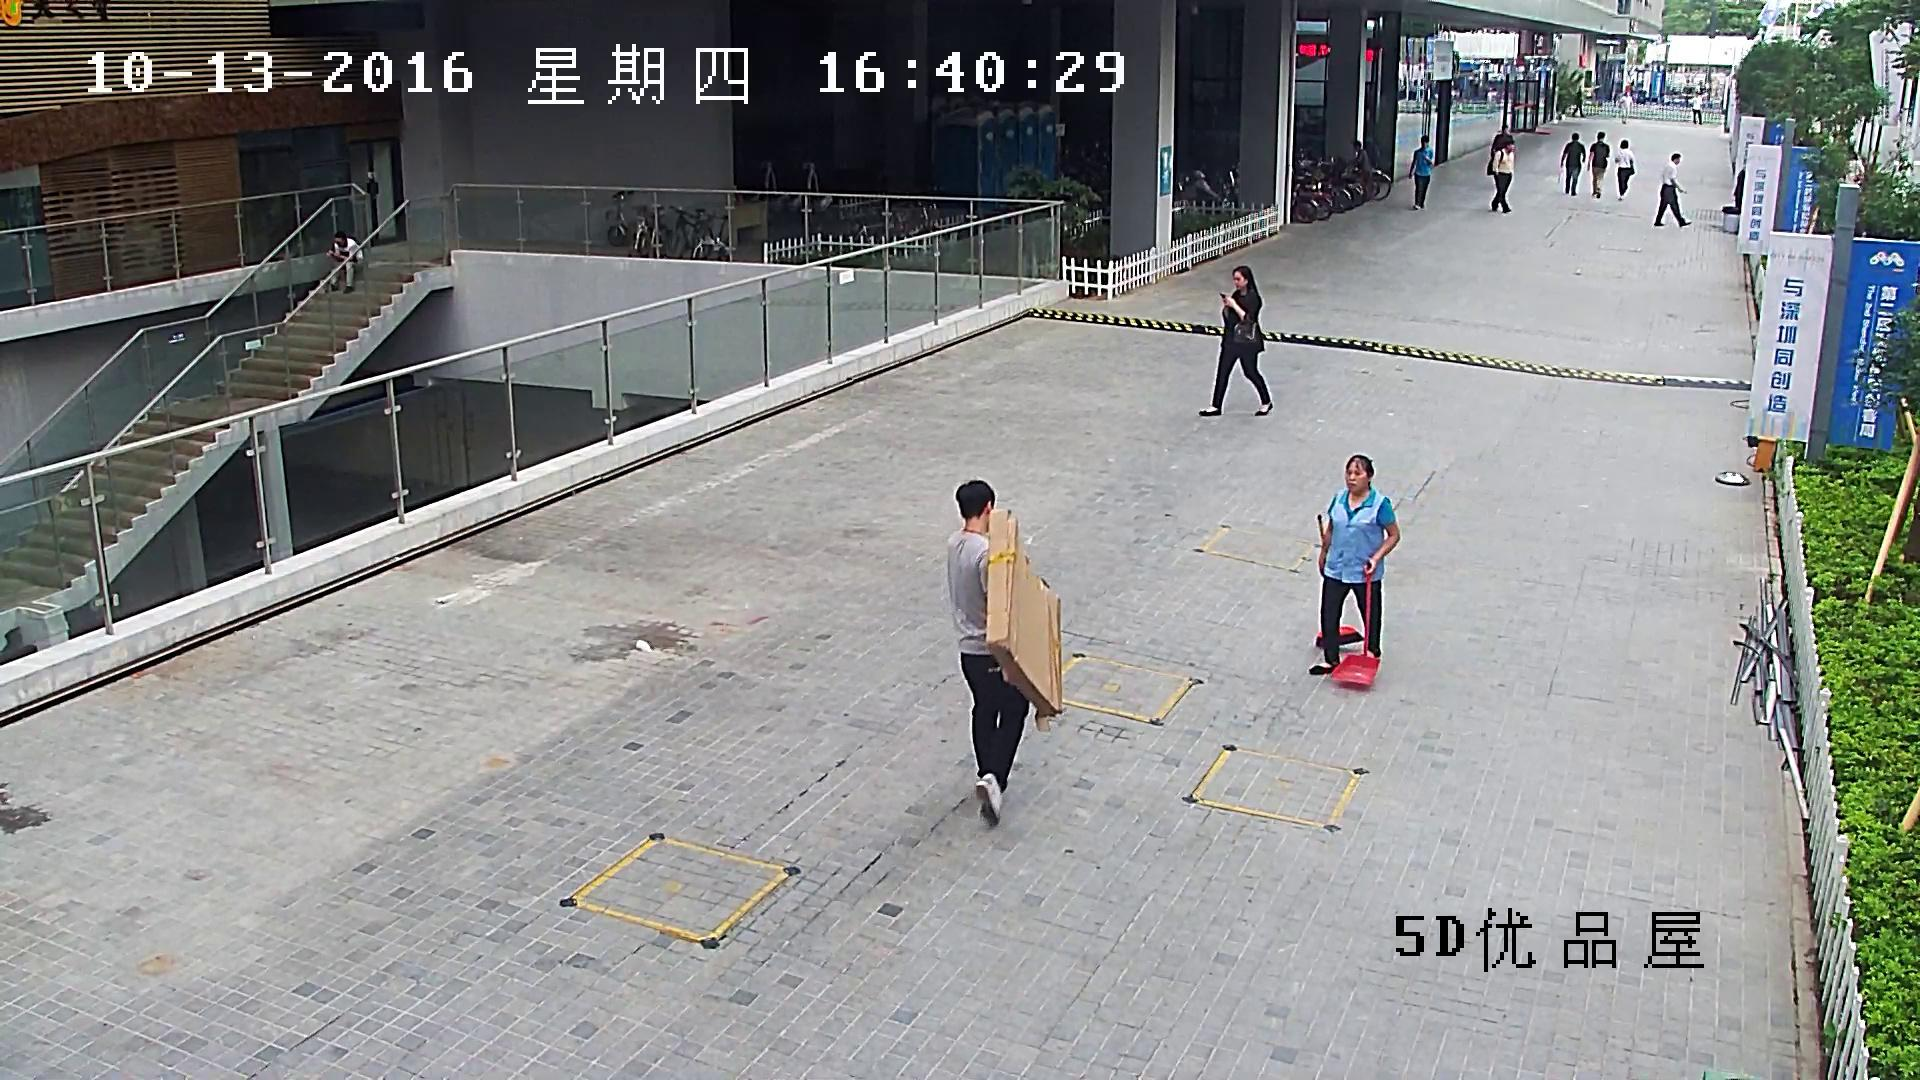person: (948, 478, 1062, 824), (946, 479, 1028, 824), (1312, 455, 1399, 691), (1312, 455, 1400, 674), (1200, 266, 1273, 417), (1653, 153, 1691, 227), (327, 232, 364, 295), (1487, 140, 1514, 214), (1408, 135, 1433, 210), (1560, 133, 1586, 195), (1587, 132, 1609, 197), (1351, 140, 1374, 202), (1615, 139, 1634, 201), (1491, 124, 1512, 155), (1618, 91, 1632, 124), (1571, 86, 1585, 117), (1692, 91, 1704, 124)
